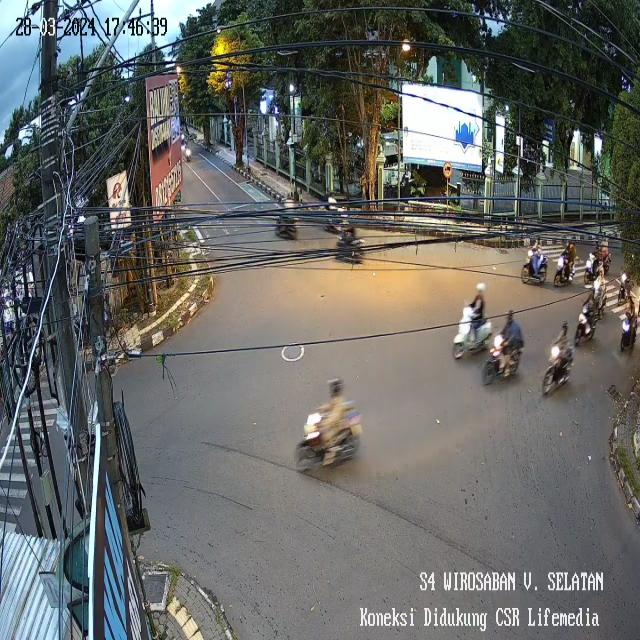motorcycle: (290, 378, 367, 486), (480, 306, 528, 395), (450, 282, 493, 365), (539, 324, 577, 399), (519, 234, 549, 293), (272, 194, 306, 242), (336, 227, 370, 274), (572, 300, 600, 354), (552, 240, 578, 298), (615, 300, 640, 359), (586, 228, 613, 278), (319, 190, 350, 232), (616, 250, 636, 307), (590, 266, 612, 316), (184, 144, 193, 167)
